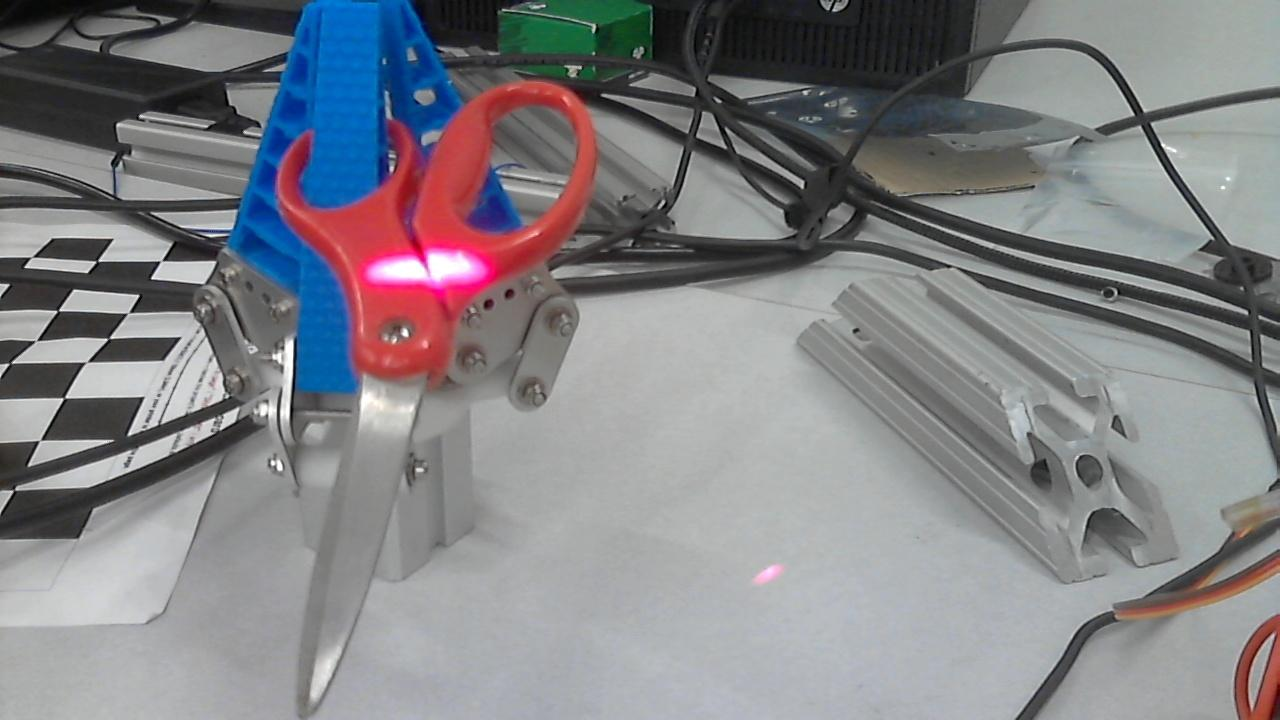Object scissors - Material plastic - Pdfname tYexGlkiIXWc: (332, 244, 512, 303)
